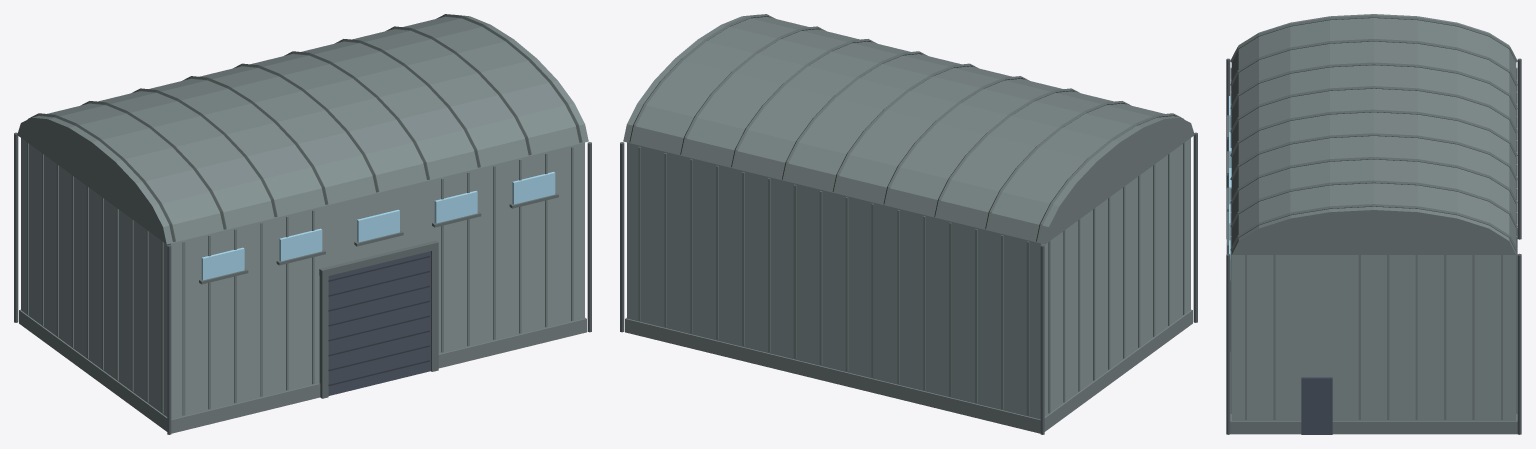
The model's file is warehouse.glb.
3 renders of one model, left to right at view 1: azimuth 30°, elevation 25°; view 2: azimuth 150°, elevation 25°; view 3: azimuth 270°, elevation 25°, orthographic. The views are drawn at different scales.
Visible parts, largest first — view 1: warehouse-m; view 2: warehouse-m; view 3: warehouse-m.
Boxes of the visible parts, x1,y1,x2,y2 form: warehouse-m: (14,14,591,434); warehouse-m: (620,14,1197,434); warehouse-m: (1226,14,1521,434).
Bounding box in the file's own units: 16.4 × 8.84 × 10.38.
